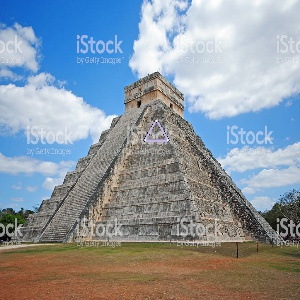triangle: (141, 115, 173, 146)
